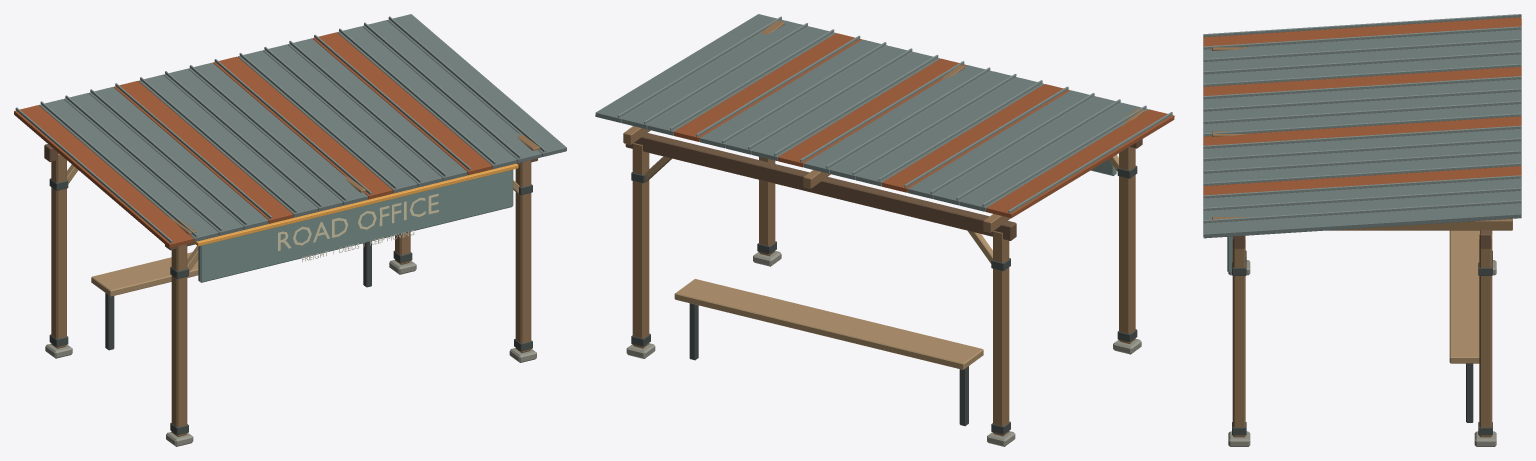
The model's file is freight_shelter.glb.
3 renders of one model, left to right at view 1: azimuth 30°, elevation 25°; view 2: azimuth 150°, elevation 25°; view 3: azimuth 270°, elevation 25°, orthographic. The views are drawn at different scales.
Visible parts, largest first — view 1: Roof_freight_shelter, Body_freight_shelter; view 2: Roof_freight_shelter, Body_freight_shelter; view 3: Roof_freight_shelter, Body_freight_shelter.
Boxes of the visible parts, x1=… form: Roof_freight_shelter: x1=14, y1=14, x2=566, y2=247; Body_freight_shelter: x1=44, y1=133, x2=539, y2=446; Roof_freight_shelter: x1=595, y1=14, x2=1174, y2=218; Body_freight_shelter: x1=623, y1=20, x2=1144, y2=446; Roof_freight_shelter: x1=1203, y1=14, x2=1521, y2=238; Body_freight_shelter: x1=1212, y1=45, x2=1512, y2=446.
Bounding box in the file's own units: 6.47 × 3.73 × 4.39.
